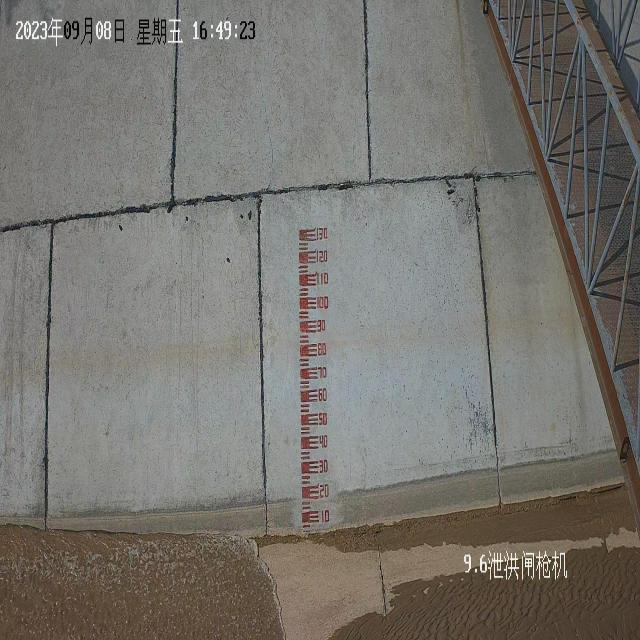ruler: (296, 219, 332, 538)
value: (316, 293, 330, 312), (316, 224, 330, 242), (316, 270, 330, 288), (315, 248, 329, 265), (316, 339, 328, 358), (317, 385, 329, 404), (317, 409, 329, 428), (318, 481, 330, 500), (318, 432, 330, 450), (318, 457, 329, 475), (316, 317, 327, 334), (317, 364, 328, 381), (320, 508, 331, 525)
